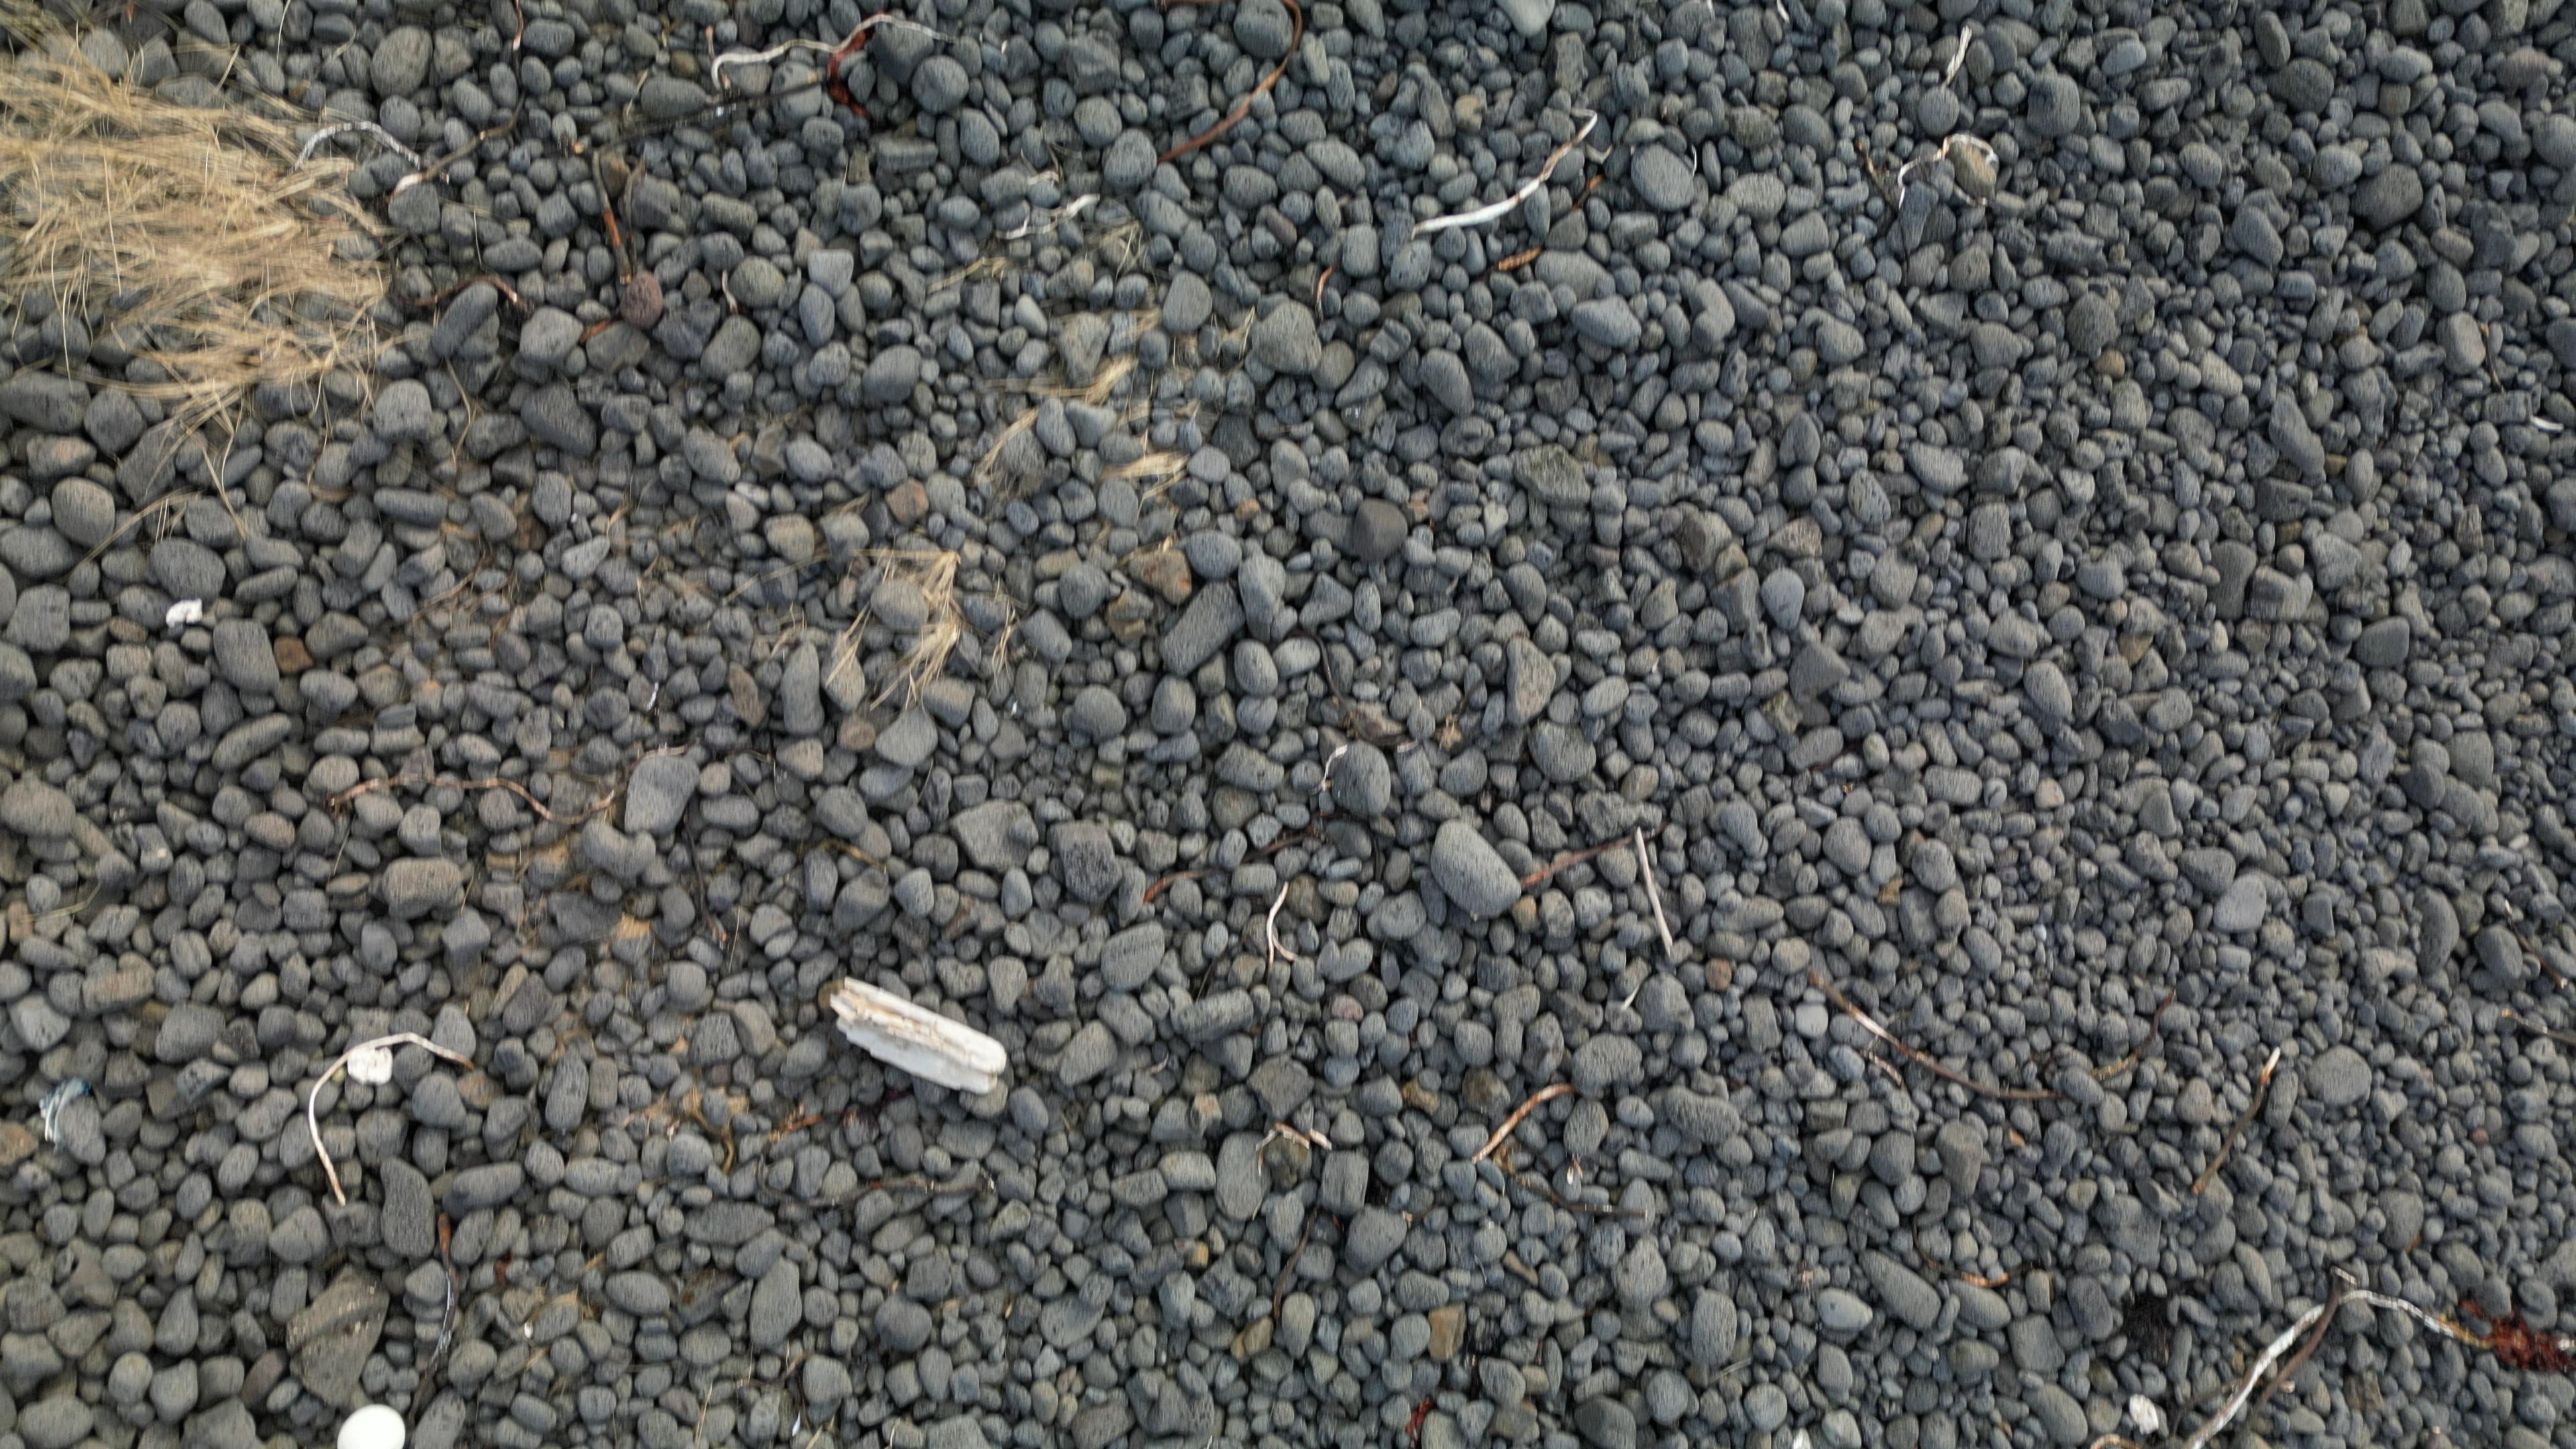trash: (825, 976, 1006, 1097), (337, 1403, 408, 1449)
